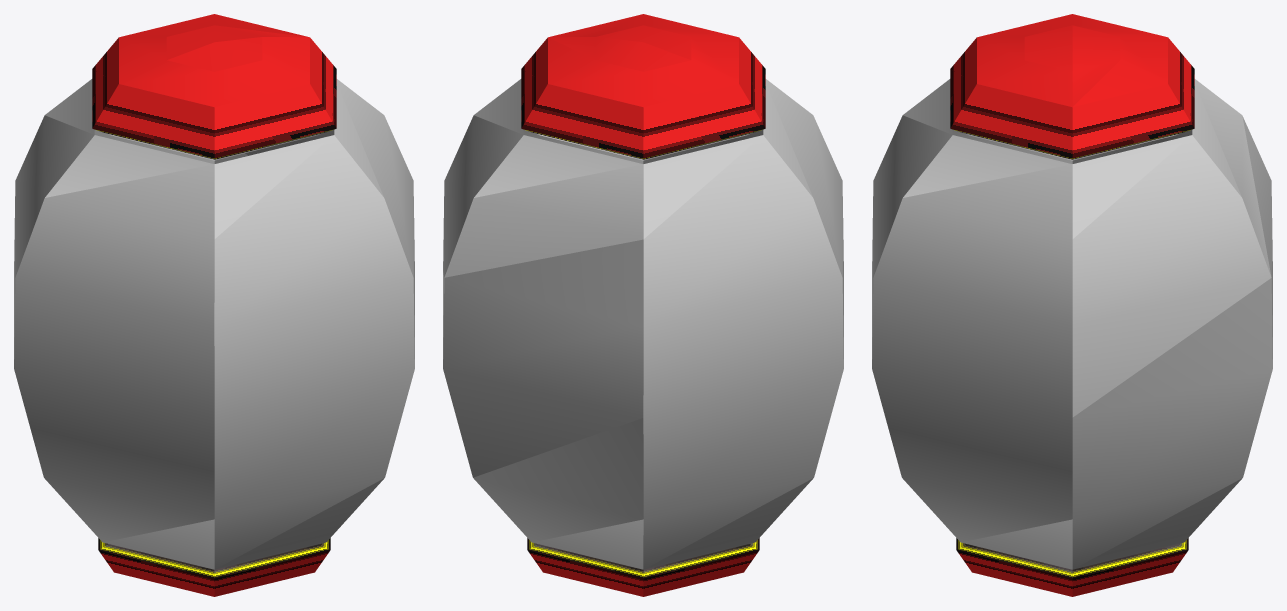
File: Flying Item Box (Question Mark).obj
The picture shows the model from 3 angles, left to right: view 1: azimuth 30°, elevation 25°; view 2: azimuth 150°, elevation 25°; view 3: azimuth 270°, elevation 25°; orthographic projection.
Parts seen in each view (by area): view 1: Mesh_0327; view 2: Mesh_0327; view 3: Mesh_0327.
Part boxes in pixels (x1,y1,x2,y2): Mesh_0327: (14, 14, 414, 596); Mesh_0327: (443, 14, 843, 596); Mesh_0327: (872, 14, 1272, 596).
Bounding box in the file's own units: 1.47 × 1.84 × 1.27.
